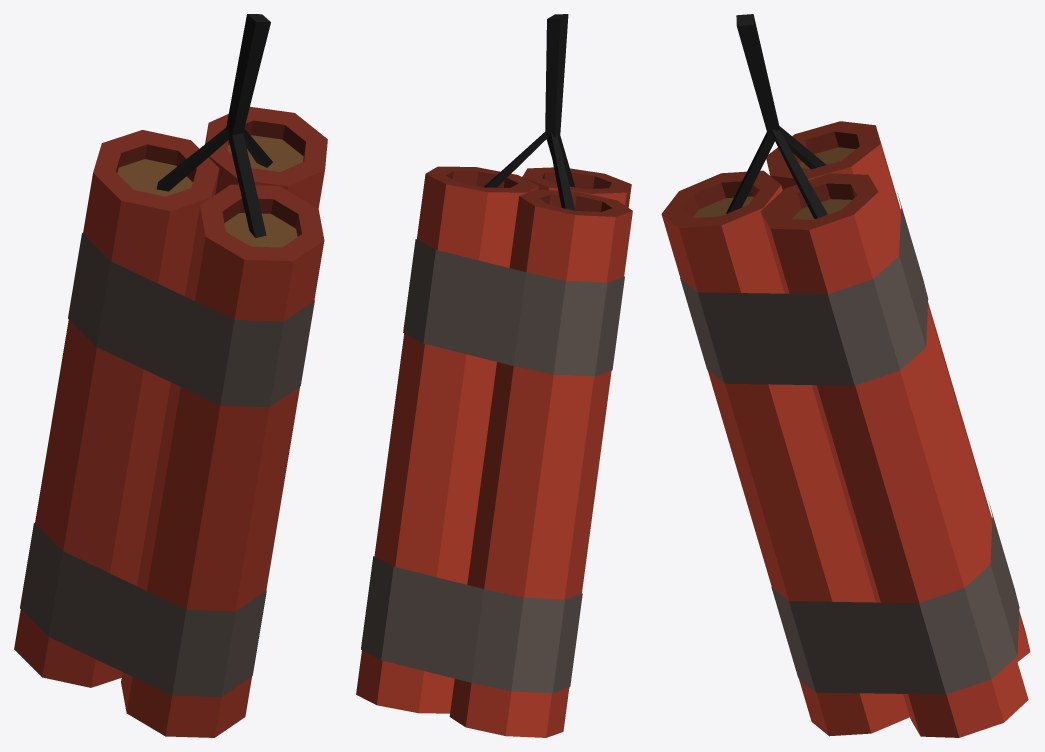
Rendered from Dynamite_Hand.glb.
3 views of the same model, side by side, from view 1: azimuth 30°, elevation 25°; view 2: azimuth 150°, elevation 25°; view 3: azimuth 270°, elevation 25° (orthographic). The views are drawn at different scales.
Parts seen in each view (by area): view 1: Dynamite; view 2: Dynamite; view 3: Dynamite.
Part boxes in pixels (left/top/right/bottom): Dynamite: left=14, top=14, right=327, bottom=737; Dynamite: left=356, top=14, right=632, bottom=737; Dynamite: left=661, top=14, right=1030, bottom=737.
Size of the model in its own units: 0.3453 by 1.12 by 0.5276.
1 material, 1 textured.
